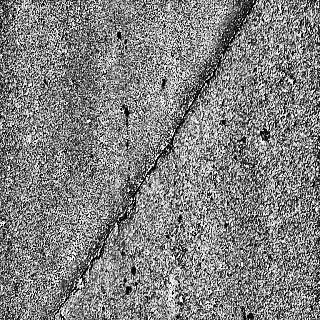crack: (50, 2, 256, 320)
